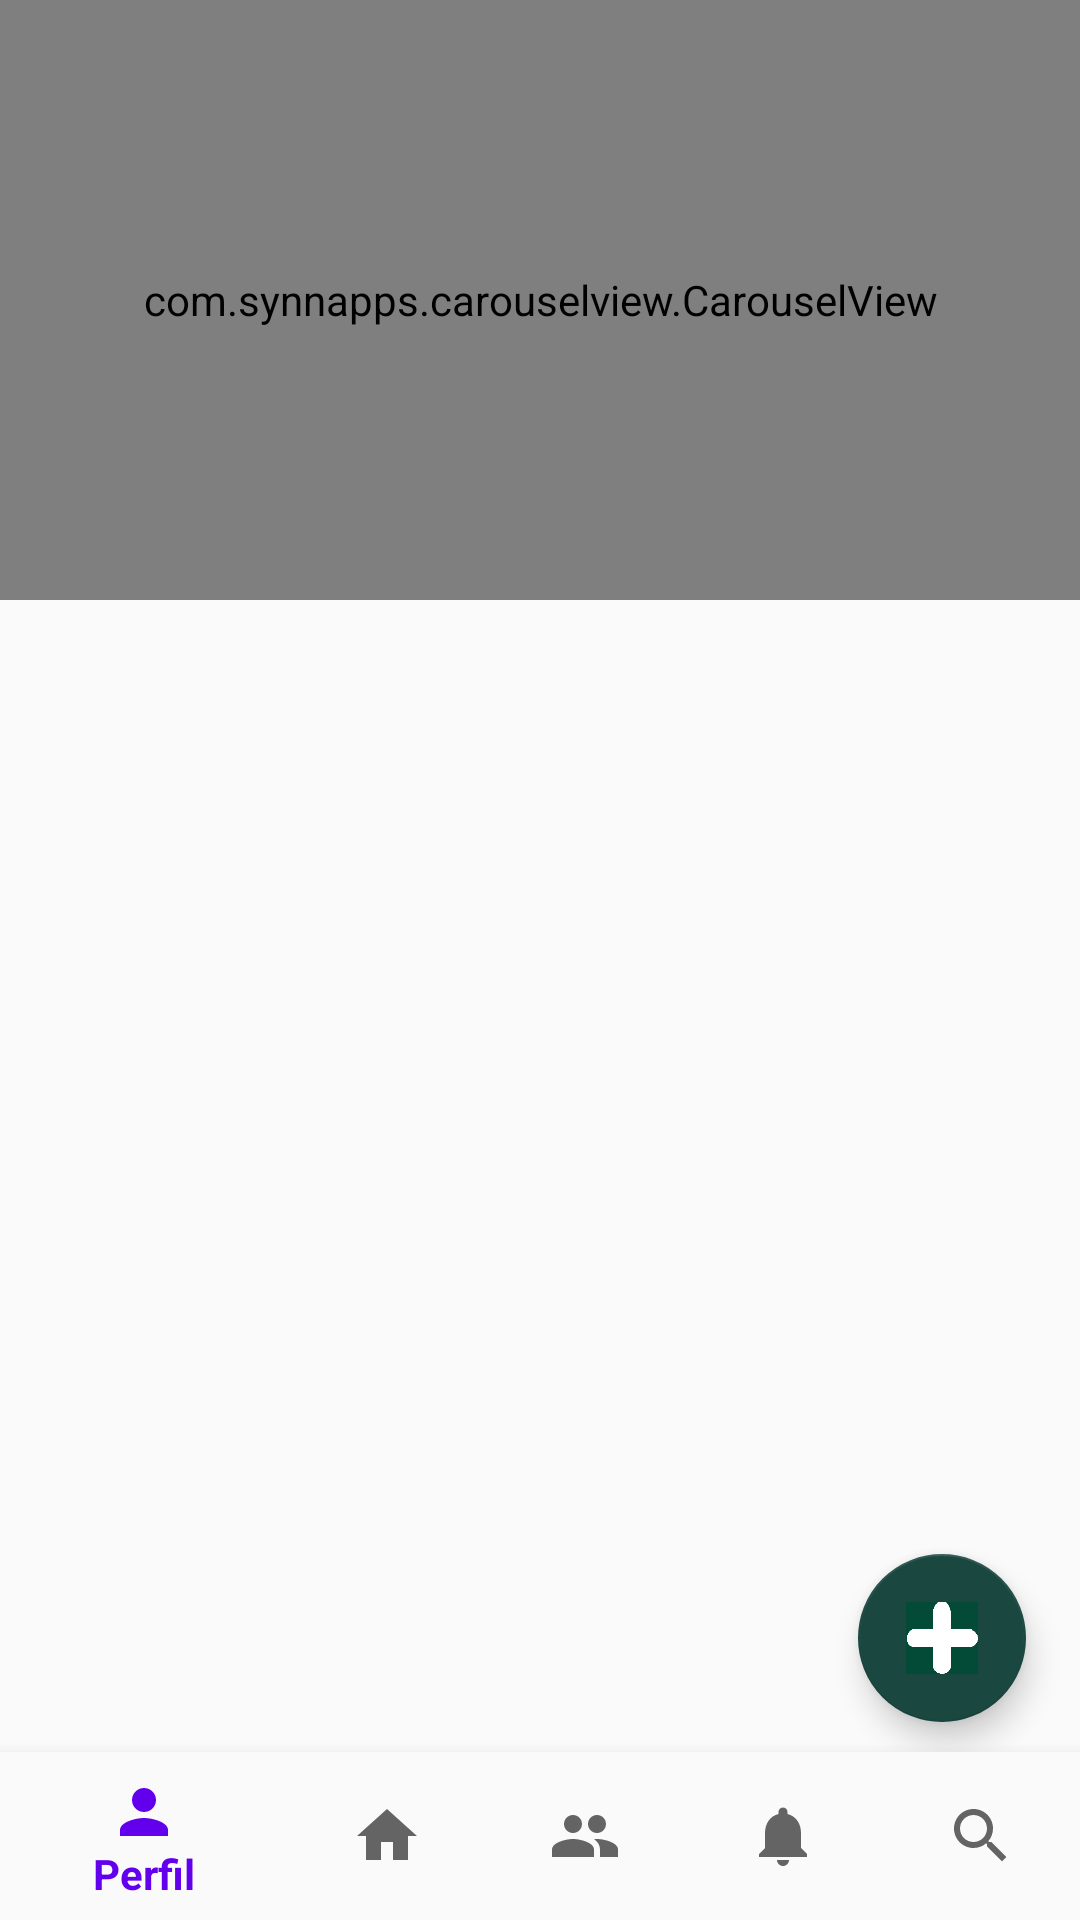

Point at icon controls on the screen. Image size 1080 x 1920, points as (x=x, y=y).
plus: (x=942, y=1638)
